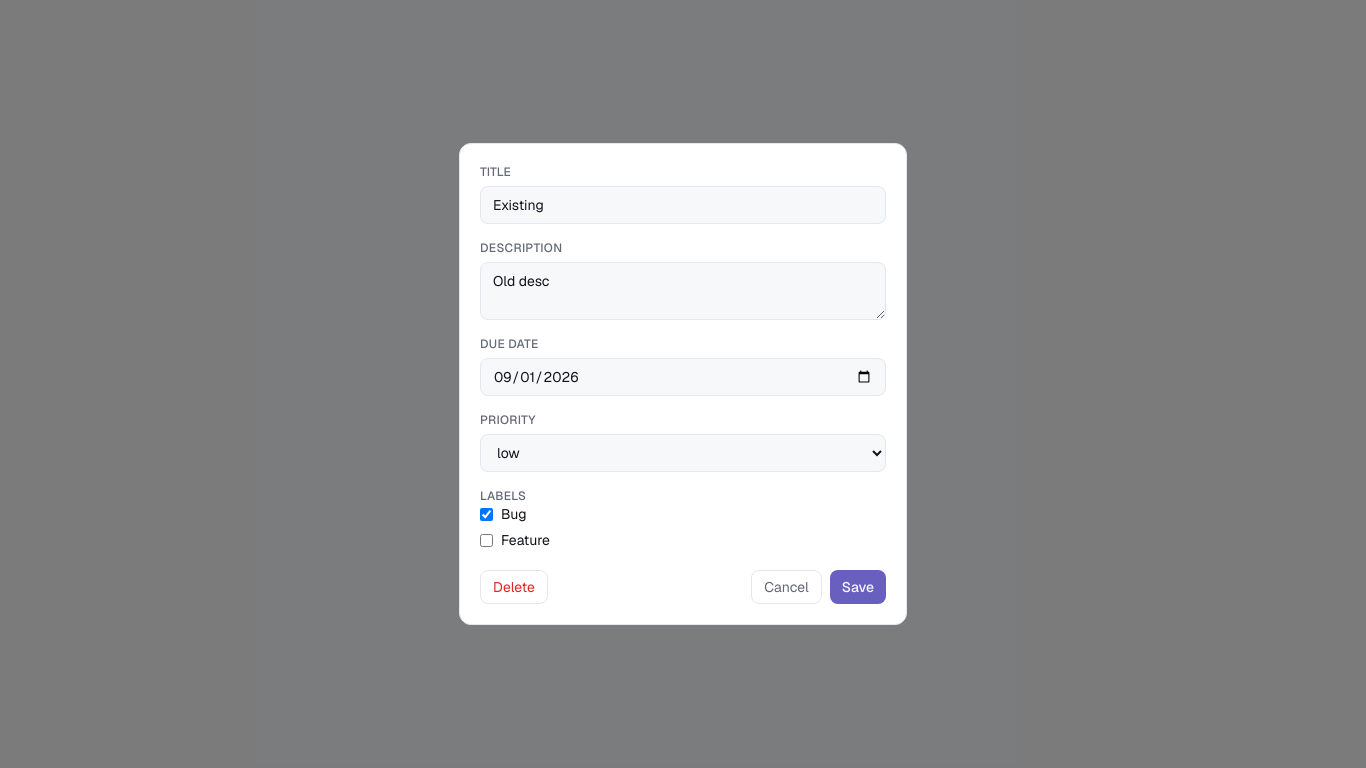
Test: CardModal (edit mode) › backs out of the confirm step on cancel, without deleting
Click the button "Delete": (514, 587) [480,570,548,604]
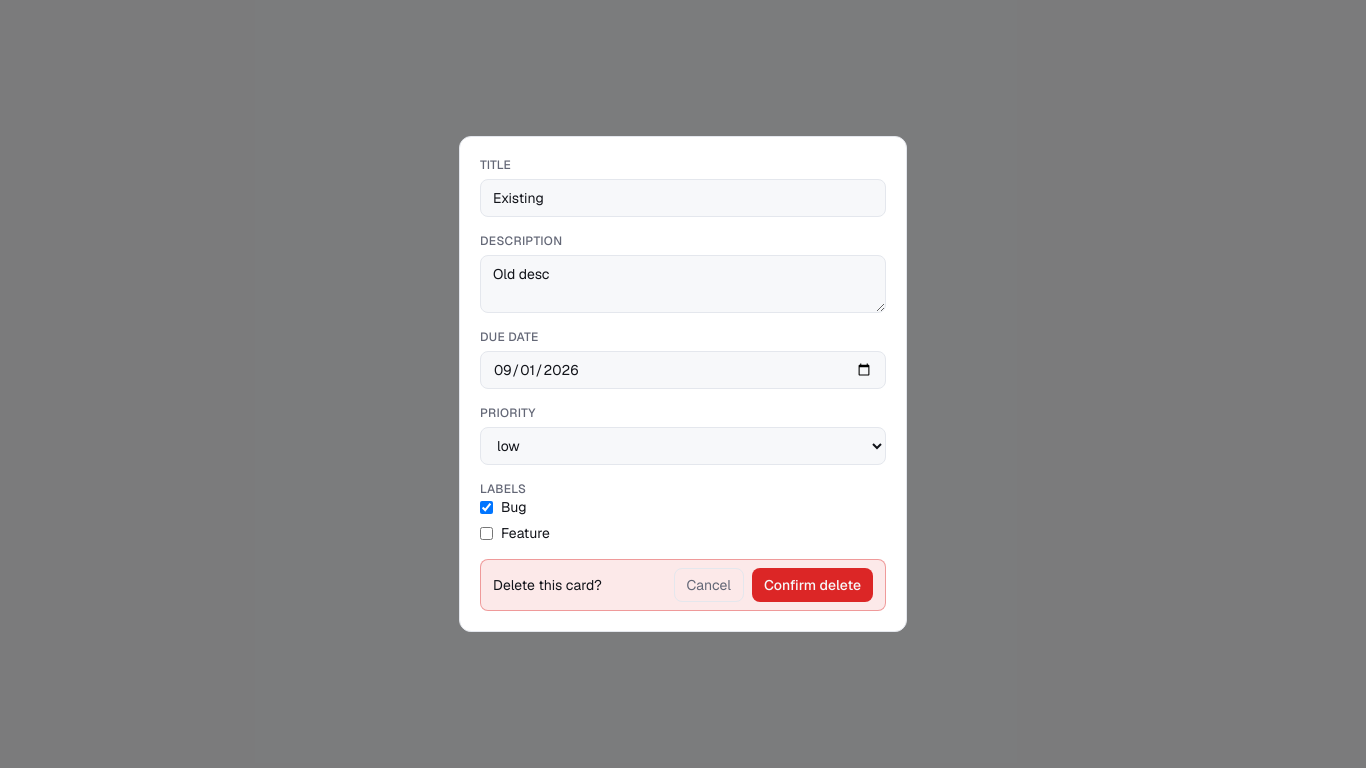
Click the button "Cancel": (709, 585) [674,568,744,602]
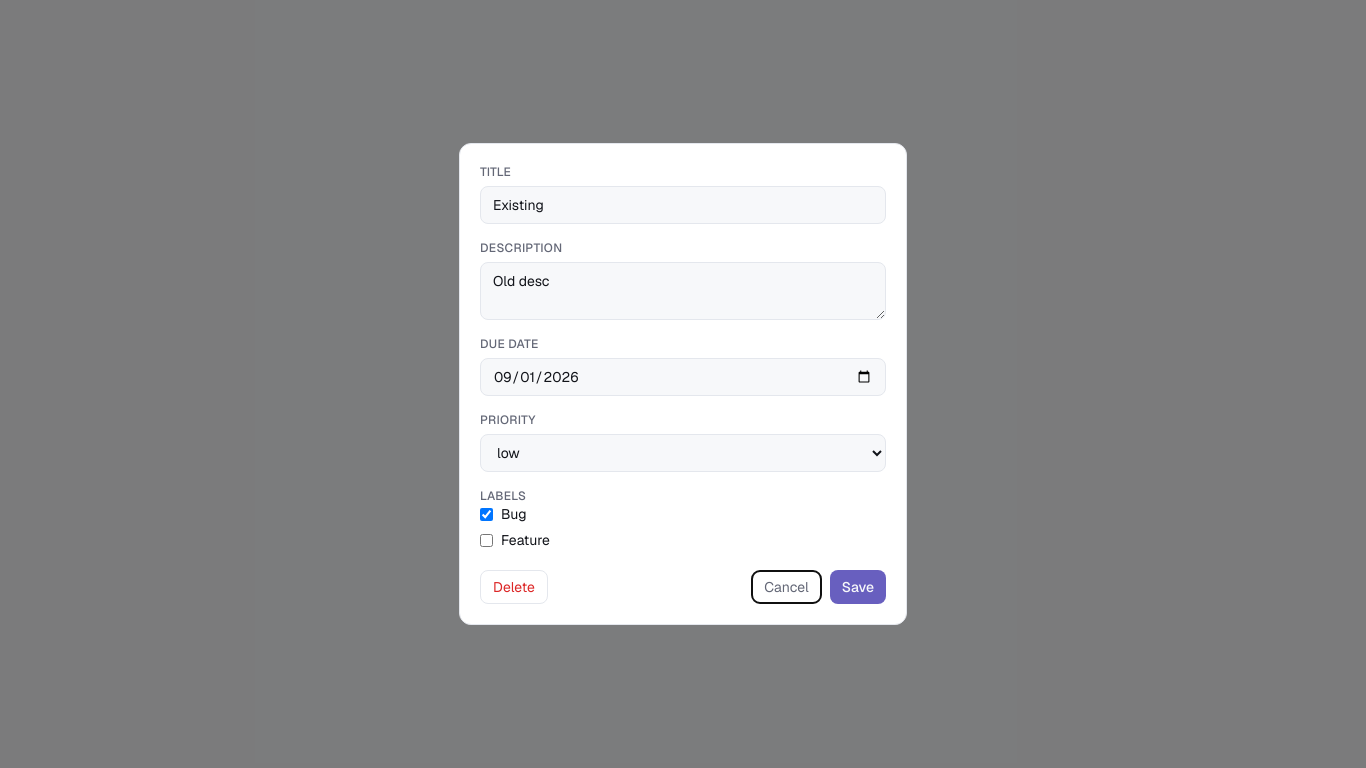
expect the button "Delete" is shown: met, box [480,570,548,604]
expect the text "Delete this card?" is gone: met
